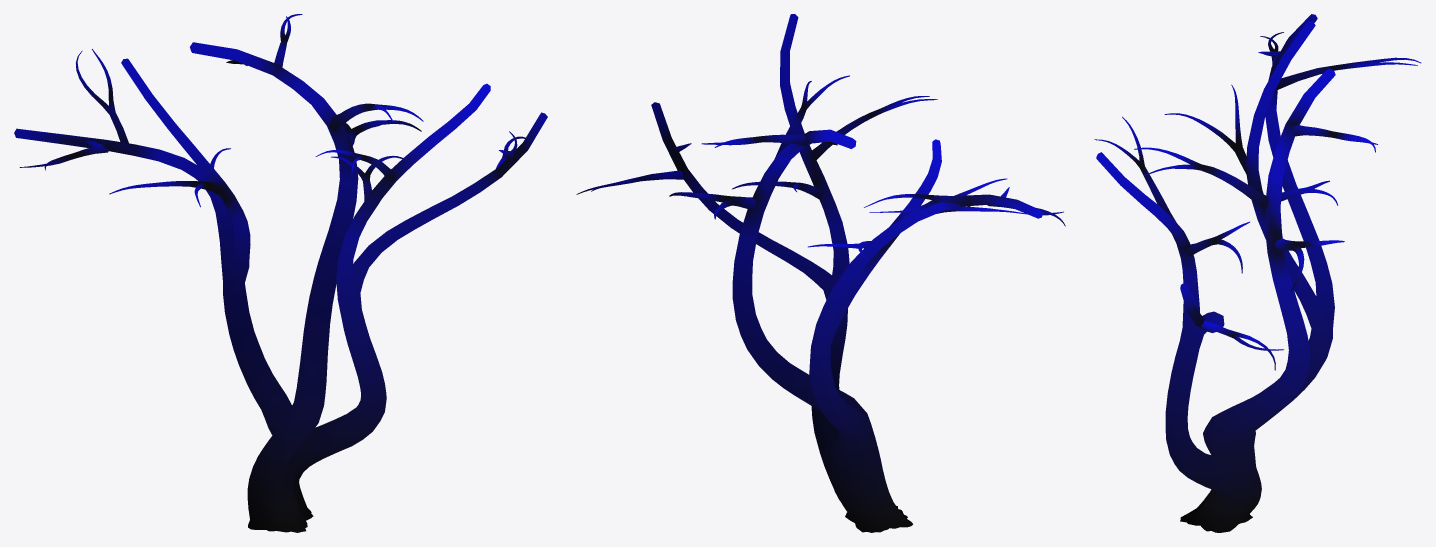
The model's file is Sakura Trunk 001.fbx.
The picture shows the model from 3 angles, left to right: view 1: azimuth 30°, elevation 25°; view 2: azimuth 150°, elevation 25°; view 3: azimuth 270°, elevation 25°; orthographic projection. The views are drawn at different scales.
Visible parts, largest first — view 1: Sakura_Trunk_001_LOD0; view 2: Sakura_Trunk_001_LOD0; view 3: Sakura_Trunk_001_LOD0.
Boxes of the visible parts, x1,y1,x2,y2 form: Sakura_Trunk_001_LOD0: (14, 14, 547, 532); Sakura_Trunk_001_LOD0: (576, 14, 1065, 532); Sakura_Trunk_001_LOD0: (1094, 14, 1421, 532).
Size of what is drawn, in the model's own units: 783 by 663 by 442.
